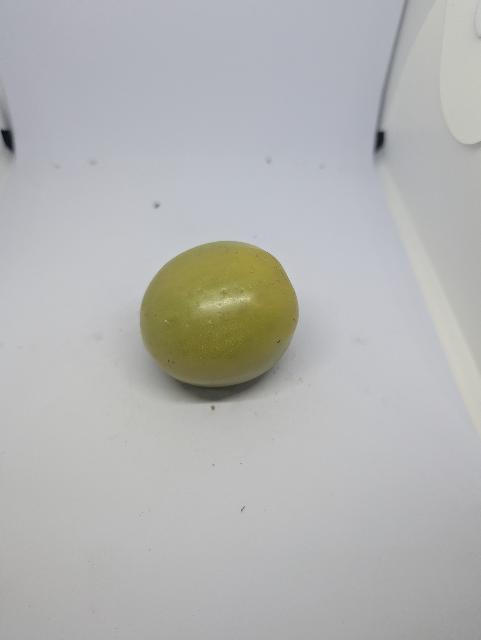green: (140, 241, 299, 387)
